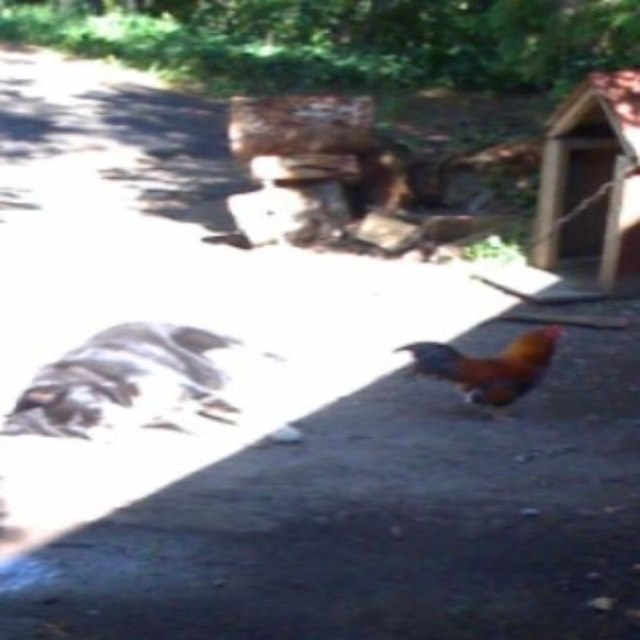Chicken: (424, 327, 564, 409)
